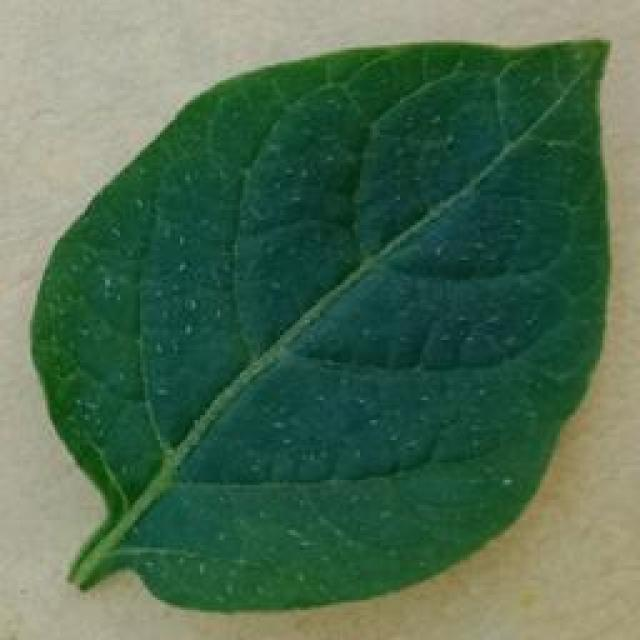Potato_Healthy: (31, 40, 610, 610)
